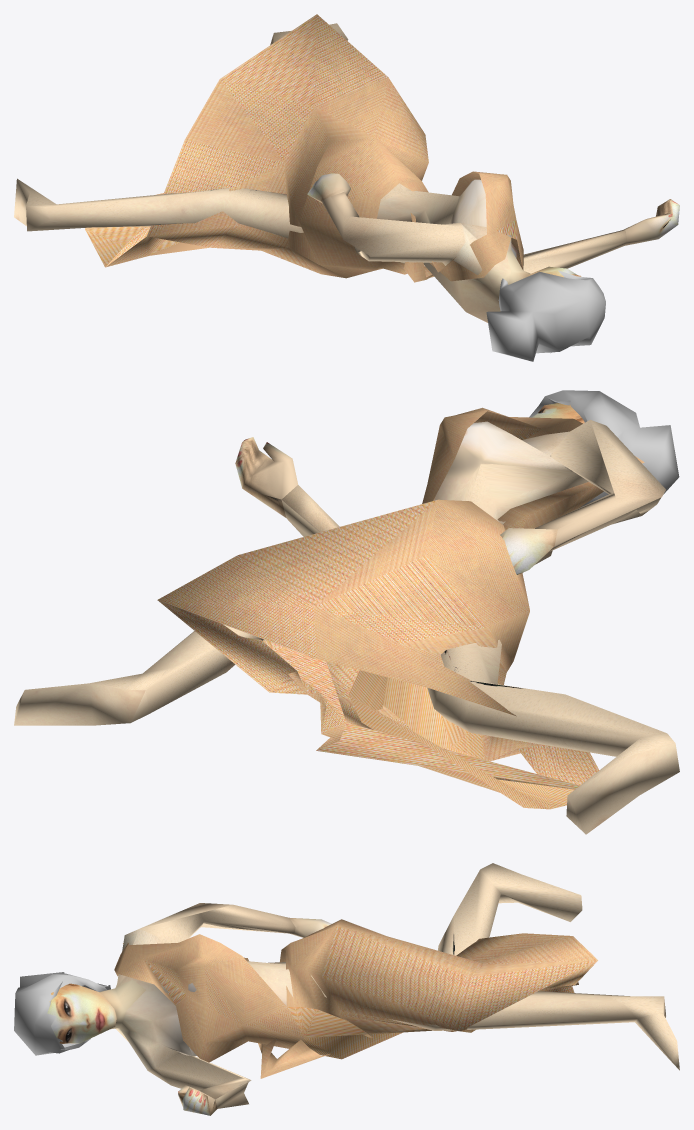
File: female_000101.obj
3 views of the same model, one above another, from view 1: azimuth 30°, elevation 25°; view 2: azimuth 150°, elevation 25°; view 3: azimuth 270°, elevation 25° (orthographic). The views are drawn at different scales.
Parts seen in each view (by area): view 1: saree_Cylinder, body.001_omino.012, hair.003_omino.013; view 2: saree_Cylinder, body.001_omino.012, hair.003_omino.013; view 3: saree_Cylinder, body.001_omino.012, hair.003_omino.013.
Boxes of the visible parts, box(x1,y1,x2,y2) form: saree_Cylinder: box(85, 14, 523, 282); body.001_omino.012: box(14, 23, 679, 322); hair.003_omino.013: box(486, 270, 605, 361); saree_Cylinder: box(157, 407, 644, 809); body.001_omino.012: box(14, 403, 679, 834); hair.003_omino.013: box(529, 390, 679, 507); saree_Cylinder: box(114, 919, 597, 1078); body.001_omino.012: box(47, 863, 679, 1115); hair.003_omino.013: box(14, 972, 110, 1055).
Bounding box in the file's own units: 2.12 × 0.6053 × 2.59.
